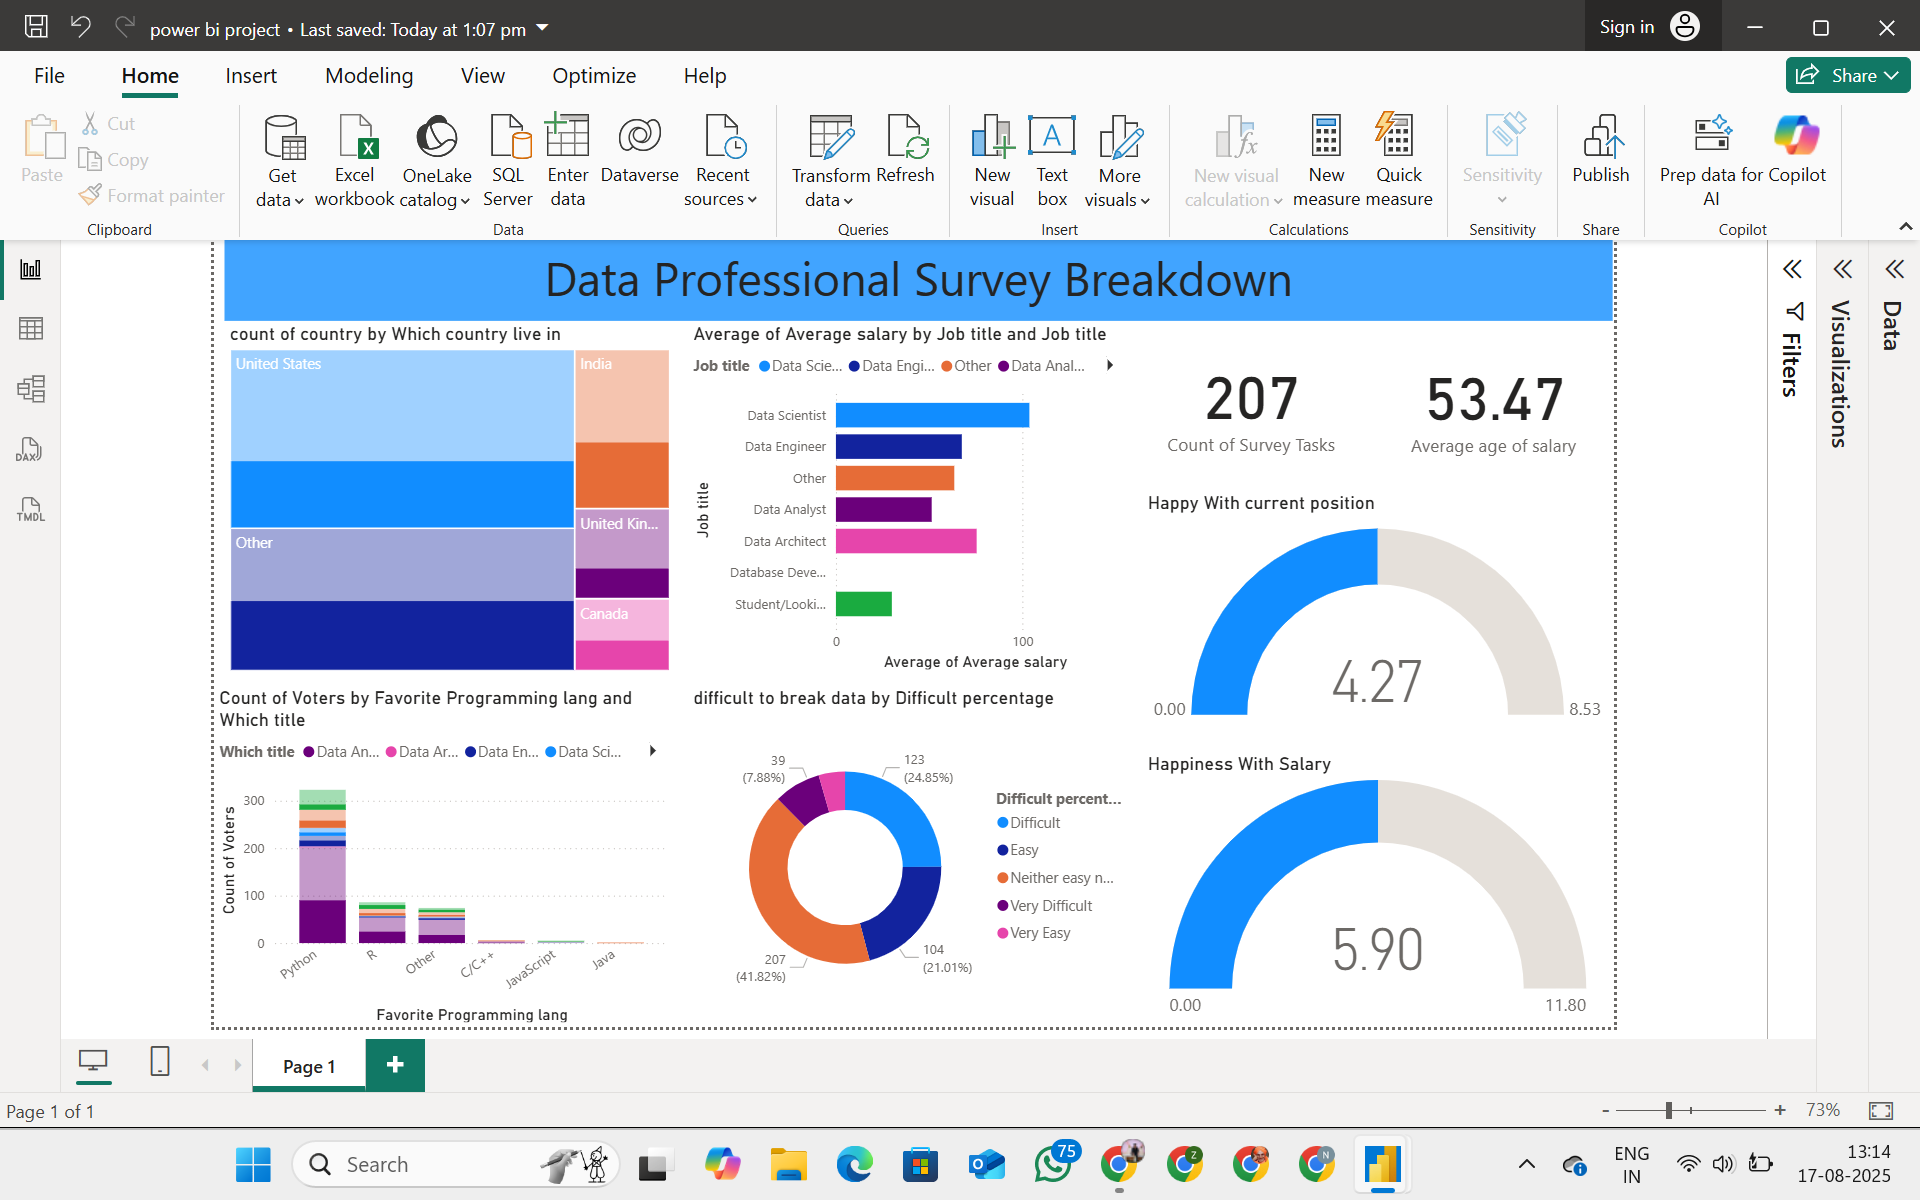

This screenshot's page, from the dashboard's own definition file:
{"tool":"powerbi","page":{"name":"Page 1","canvas":[1280,720],"ordinal":0},"visuals":[{"type":"textbox","box":[9.4,0,1269.9,73.7],"z":0},{"type":"card","fields":{"Values":["Count(Data Professional Survey.Unique ID)"]},"box":[849.5,74.2,198.4,148.4],"z":1},{"type":"card","fields":{"Values":["Avg(Data Professional Survey.Average salary)"]},"box":[1060.2,74.7,219,149.3],"z":2},{"type":"barChart","fields":{"Y":["Avg(Data Professional Survey.Average salary)"],"Series":["Data Professional Survey.Q1 - Which Title Best Fits your Current Role?.1"],"Category":["Data Professional Survey.Q1 - Which Title Best Fits your Current Role?.1"]},"box":[433.1,75.7,405.8,322.5],"z":3},{"type":"columnChart","fields":{"Category":["Data Professional Survey.Q5 - Favorite Programming Language.1"],"Y":["CountNonNull(Data Professional Survey.Unique ID)"],"Series":["Data Professional Survey.Q1 - Which Title Best Fits your Current Role?.1"]},"box":[0,408.8,420.9,311.9],"z":4},{"type":"treemap","fields":{"Group":["Data Professional Survey.Q11 - Which Country do you live in?.1"],"Values":["CountNonNull(Data Professional Survey.Q11 - Which Country do you live in?.1)"]},"box":[9.4,75.6,412,323.2],"z":5},{"type":"gauge","fields":{"Y":["Avg(Data Professional Survey.Q6 - How Happy are you in your Current Position with the following? (Work/Life Balance))"]},"box":[849.5,469.4,430,251.4],"z":6},{"type":"gauge","fields":{"Y":["Avg(Data Professional Survey.Q6 - How Happy are you in your Current Position with the following? (Salary))"]},"box":[849.5,230.6,429.5,222.3],"z":7},{"type":"donutChart","fields":{"Y":["CountNonNull(Data Professional Survey.Q7 - How difficult was it for you to break into Data?)"],"Series":["Data Professional Survey.Q7 - How difficult was it for you to break into Data?"]},"box":[433.1,408.8,405.8,310.4],"z":8}]}

Visuals, with their boxes on the page's 1280x720 design canvas (x1, y1, x2, y2). These are canvas units, not pixel positions in the 1920x1200 screenshot, which may show the page scaled, cropped or inside an application window:
textbox: crop(9, 0, 1279, 74)
card - Count(Data Professional Survey.Unique ID): crop(850, 74, 1048, 223)
card - Avg(Data Professional Survey.Average salary): crop(1060, 75, 1279, 224)
barChart - Avg(Data Professional Survey.Average salary) x Data Professional Survey.Q1 - Which Title Best Fits your Current Role?.1: crop(433, 76, 839, 398)
columnChart - Data Professional Survey.Q5 - Favorite Programming Language.1 x CountNonNull(Data Professional Survey.Unique ID): crop(0, 409, 421, 721)
treemap - Data Professional Survey.Q11 - Which Country do you live in?.1 x CountNonNull(Data Professional Survey.Q11 - Which Country do you live in?.1): crop(9, 76, 421, 399)
gauge - Avg(Data Professional Survey.Q6 - How Happy are you in your Current Position with the following? (Work/Life Balance)): crop(850, 469, 1280, 721)
gauge - Avg(Data Professional Survey.Q6 - How Happy are you in your Current Position with the following? (Salary)): crop(850, 231, 1279, 453)
donutChart - CountNonNull(Data Professional Survey.Q7 - How difficult was it for you to break into Data?) x Data Professional Survey.Q7 - How difficult was it for you to break into Data?: crop(433, 409, 839, 719)
